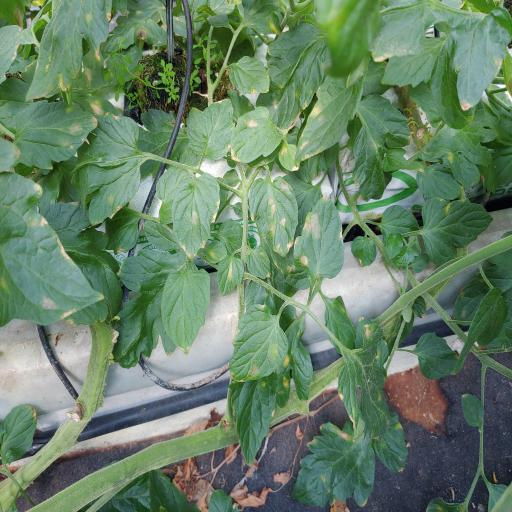Leaf Mold: (0, 170, 105, 327), (25, 0, 113, 105), (70, 112, 141, 228), (256, 22, 332, 130), (295, 56, 370, 162), (290, 422, 375, 510), (229, 352, 290, 467), (0, 99, 98, 170), (336, 323, 391, 440), (422, 197, 493, 265), (230, 304, 289, 382), (171, 172, 221, 261), (294, 194, 344, 280), (248, 175, 299, 258), (230, 105, 284, 164), (185, 98, 234, 162), (373, 410, 408, 473), (324, 296, 356, 356), (228, 55, 270, 97), (217, 254, 244, 297), (246, 246, 272, 280), (278, 142, 301, 173)
